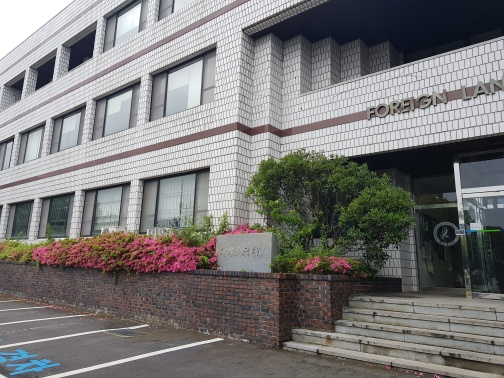Foreign Language Institute: (16, 8, 504, 353), (81, 44, 221, 143)
